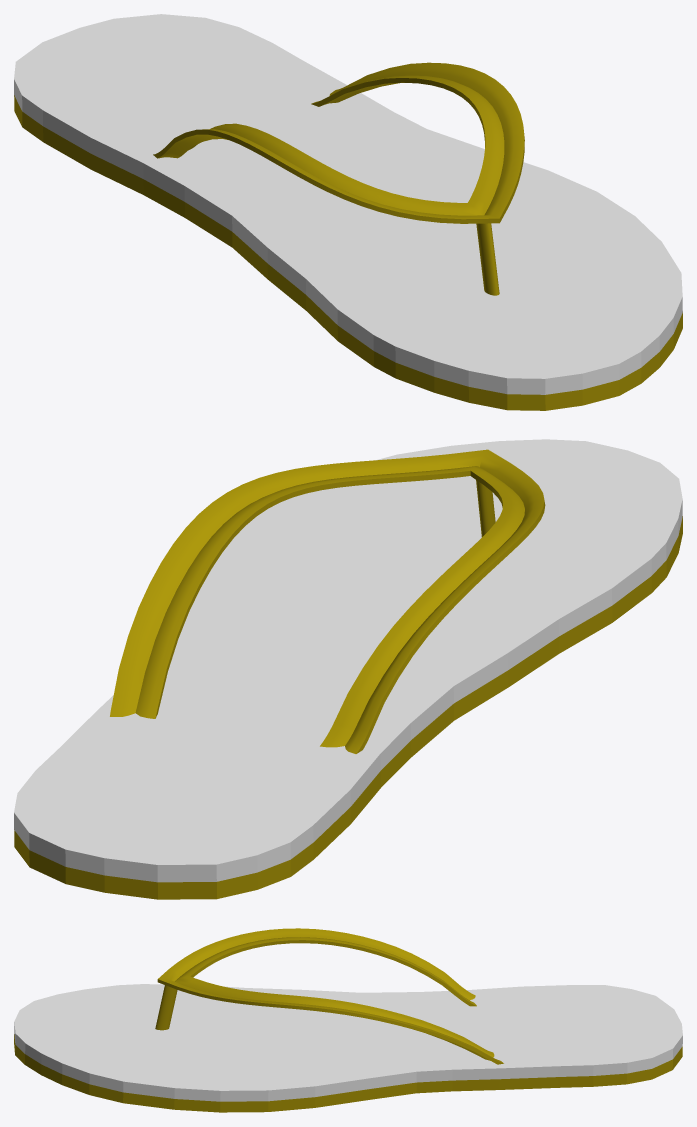
File: sendalkuning.fbx
3 renders of one model, top to bottom at view 1: azimuth 30°, elevation 25°; view 2: azimuth 150°, elevation 25°; view 3: azimuth 270°, elevation 25°, orthographic. The views are drawn at different scales.
Visible parts, largest first — view 1: Chancletas OBJ; view 2: Chancletas OBJ; view 3: Chancletas OBJ.
Part boxes in pixels (x1,y1,x2,y2): Chancletas OBJ: [14, 14, 682, 410]; Chancletas OBJ: [14, 439, 682, 899]; Chancletas OBJ: [14, 928, 682, 1112].
Size of the model in its own units: 173 by 66.48 by 447.
